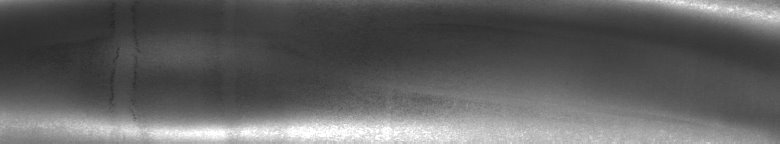ke: (4, 4, 776, 136)
